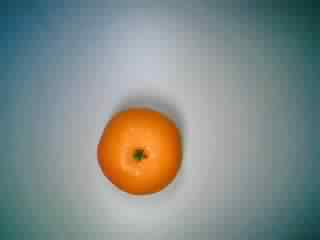orange: (92, 99, 187, 201)
